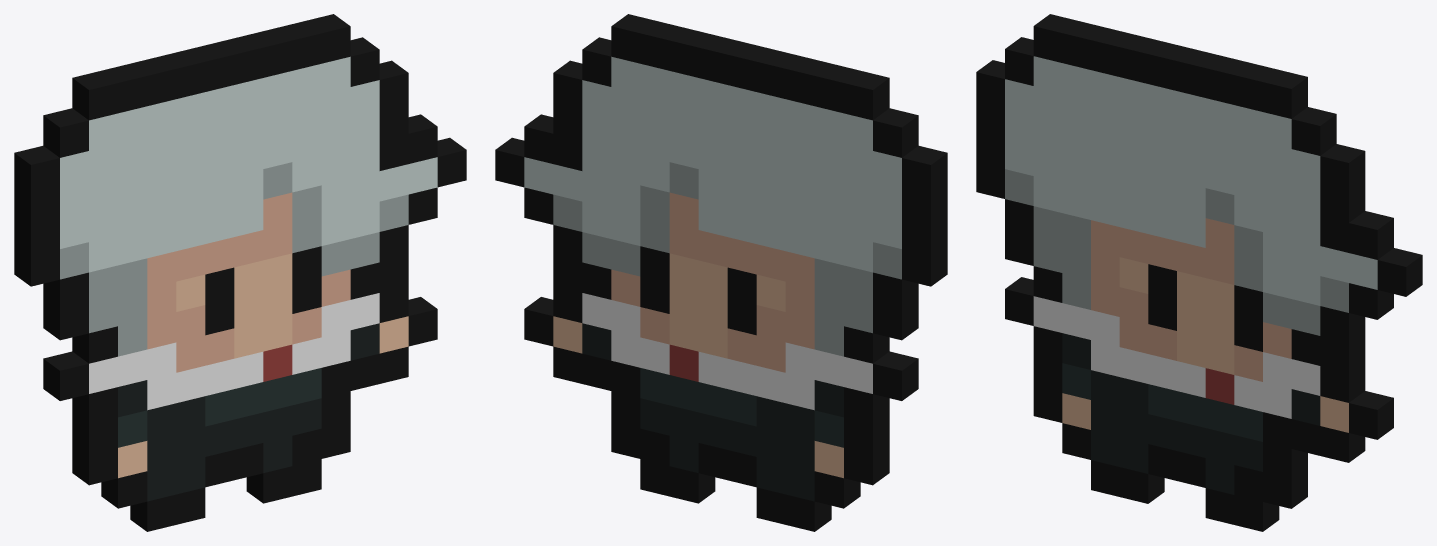
3 renders of one model, left to right at view 1: azimuth 30°, elevation 25°; view 2: azimuth 150°, elevation 25°; view 3: azimuth 330°, elevation 25°, orthographic.
Visible parts, largest first — view 1: MM; view 2: MM; view 3: MM.
Boxes of the visible parts, x1,y1,x2,y2 form: MM: [14, 14, 466, 531]; MM: [495, 14, 947, 531]; MM: [976, 14, 1422, 531].
Bounding box in the file's own units: 150 × 150 × 10.
